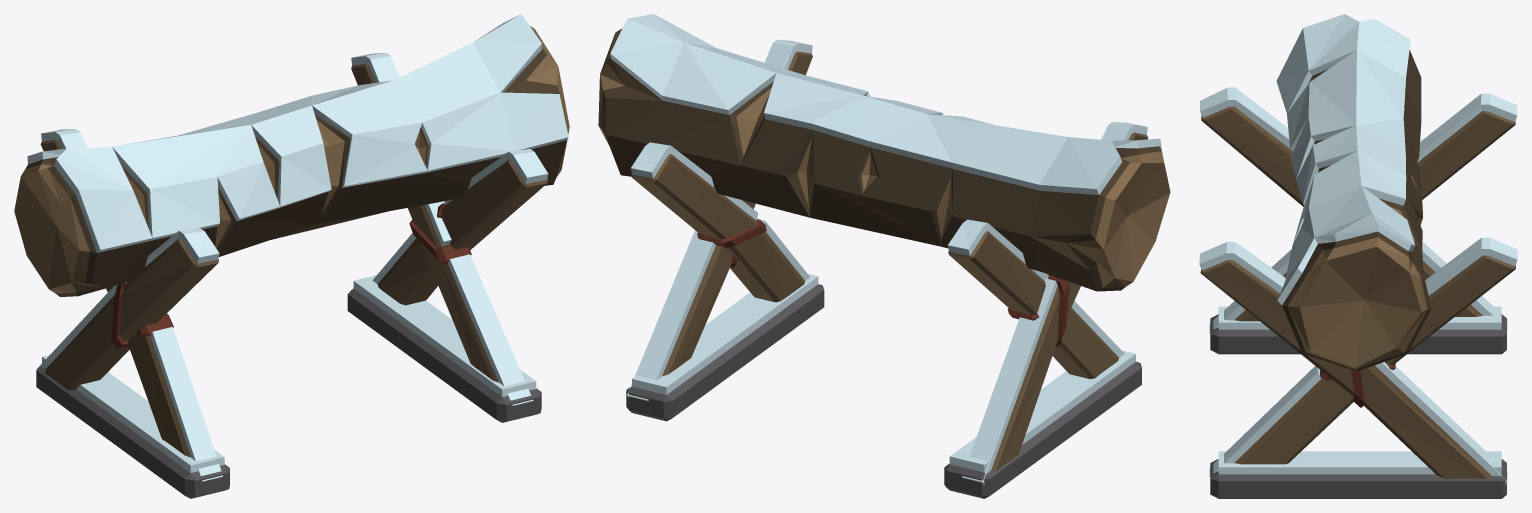
Rendered from SM_Prop_Log_01_Snow.fbx.
3 views of the same model, side by side, from view 1: azimuth 30°, elevation 25°; view 2: azimuth 150°, elevation 25°; view 3: azimuth 270°, elevation 25° (orthographic). The views are drawn at different scales.
Parts seen in each view (by area): view 1: SM_Prop_Log_01_Snow; view 2: SM_Prop_Log_01_Snow; view 3: SM_Prop_Log_01_Snow.
Boxes of the visible parts, box(x1,y1,x2,y2) form: SM_Prop_Log_01_Snow: box(14, 14, 569, 498); SM_Prop_Log_01_Snow: box(598, 14, 1170, 498); SM_Prop_Log_01_Snow: box(1199, 14, 1517, 498).
Size of the model in its own units: 213 by 129 by 122.
